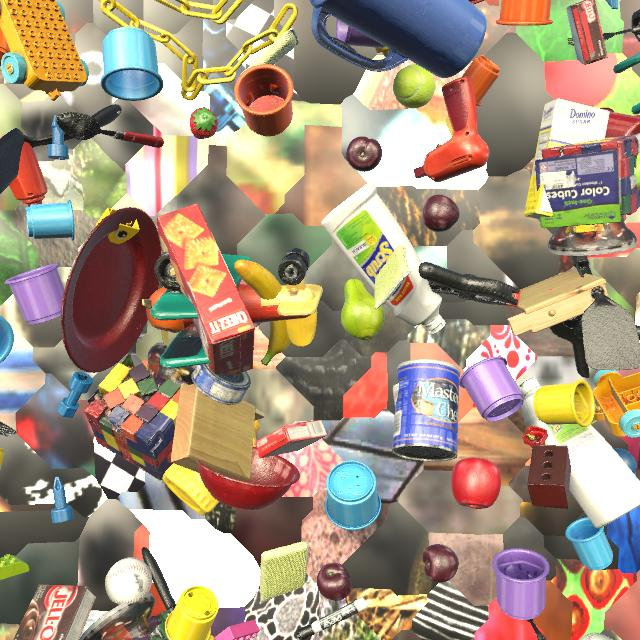ycb_002_master_chef_can: (392, 359, 460, 462)
ycb_003_cracker_box: (157, 204, 255, 375)
ycb_004_sugar_box: (524, 98, 610, 219)
ycb_005_tomato_soup_can: (392, 381, 399, 405)
ycb_006_mustard_bottle: (163, 408, 260, 515), (375, 46, 389, 58)
ycb_007_tuna_fish_can: (191, 364, 251, 405)
ycb_008_pudding_box: (13, 584, 96, 640), (566, 0, 608, 65)
ycb_009_gelatin_box: (255, 420, 327, 459)
ycb_011_banana: (234, 260, 290, 366)
ycb_012_strawberry: (190, 107, 218, 139)
ycb_013_apple: (451, 458, 501, 509)
ycb_016_pear: (341, 279, 385, 340)
ycb_017_orange: (146, 287, 184, 333)
ycb_018_plum: (422, 544, 459, 583), (423, 195, 460, 232), (317, 563, 352, 601), (346, 136, 382, 172)
